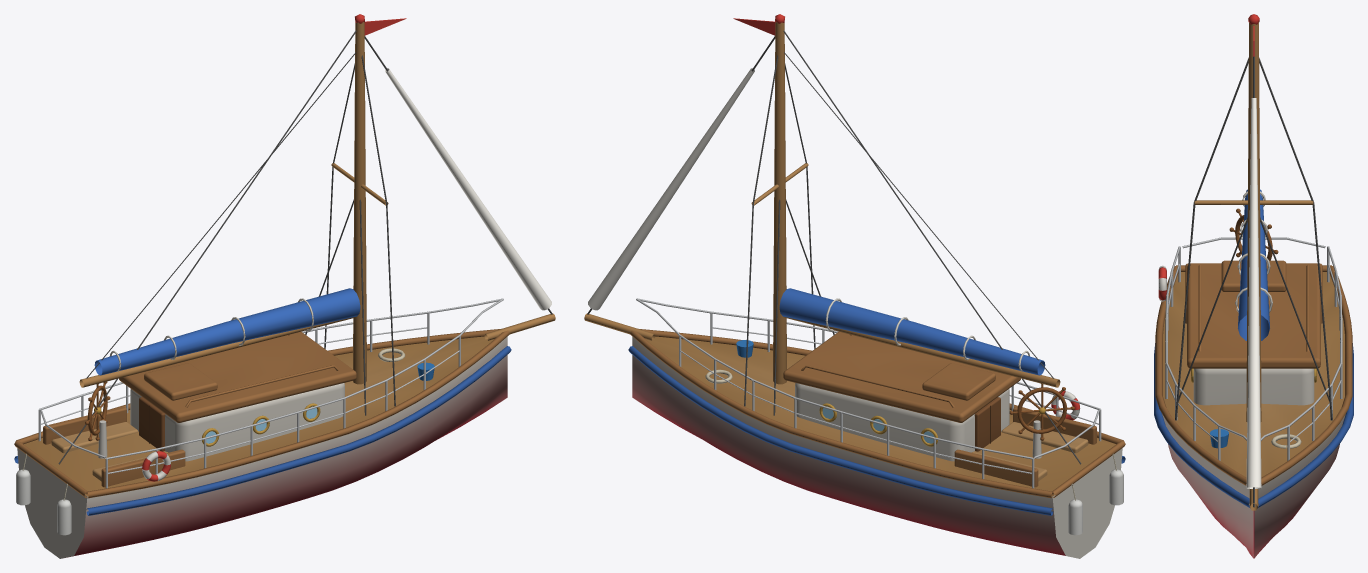
File: boat_home.glb
3 views of the same model, side by side, from view 1: azimuth 30°, elevation 25°; view 2: azimuth 150°, elevation 25°; view 3: azimuth 270°, elevation 25° (orthographic). The views are drawn at different scales.
Parts seen in each view (by area): view 1: boat_home_main, boat_home_sail; view 2: boat_home_main, boat_home_sail; view 3: boat_home_main, boat_home_sail.
Boxes of the visible parts, bbox=[...] form: boat_home_main: bbox=[14, 14, 555, 558]; boat_home_sail: bbox=[94, 68, 551, 375]; boat_home_main: bbox=[584, 14, 1125, 558]; boat_home_sail: bbox=[588, 68, 1045, 375]; boat_home_main: bbox=[1154, 14, 1353, 558]; boat_home_sail: bbox=[1238, 98, 1269, 488].
Size of the model in its own units: 6.13 by 5.26 by 1.85.
